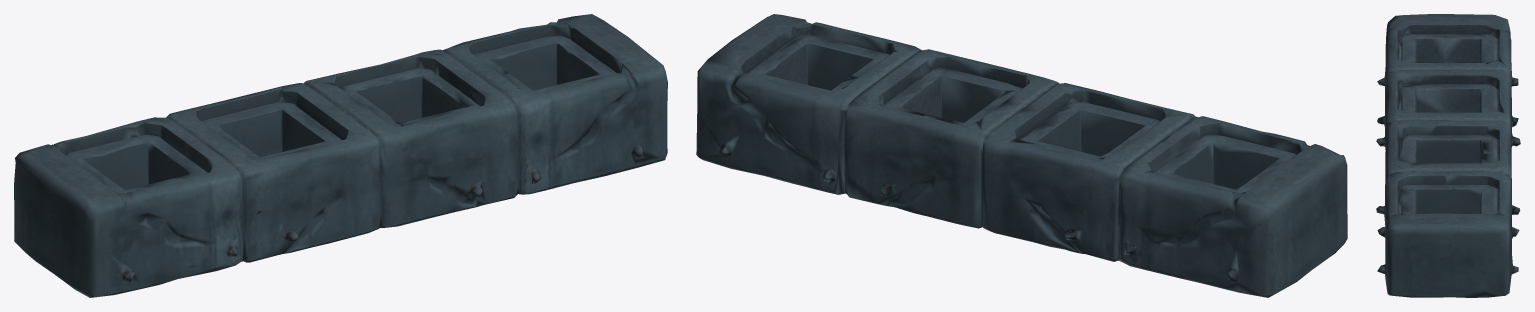
The model's file is barrier_p.glb.
The picture shows the model from 3 angles, left to right: view 1: azimuth 30°, elevation 25°; view 2: azimuth 150°, elevation 25°; view 3: azimuth 270°, elevation 25°; orthographic projection. The views are drawn at different scales.
Size of the model in its own units: 1.9 by 0.2959 by 0.5349.
Materials: 1 (1 with a texture image).
